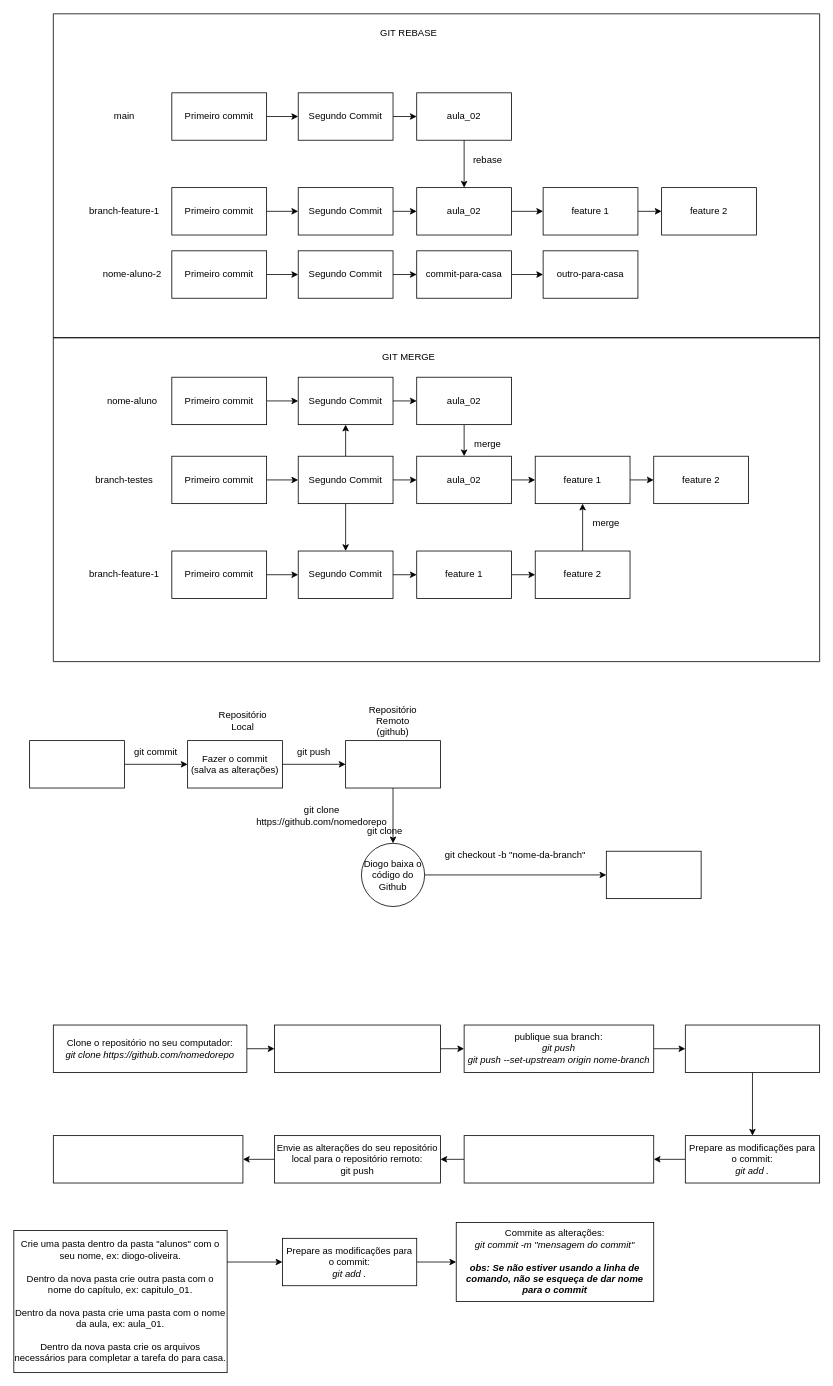
Image size: 833x1386. Some labels were removed from this diagram. The centre of each missing label's shape, as x and y in pixels:
Altera o código: point (76, 764)
Commite as alterações: git commit -m "mensagem do commit": point (558, 1159)
Crie uma branch com o seu nome: git checkout -b "seu-nome": point (357, 1048)
Entre no github e verifique se a sua branch e suas modificações foram publicadas: point (148, 1159)
Enviar para o repositório remoto: point (392, 764)
Faça suas alterações no código: point (752, 1048)
Nova branch e lançar uma nova feature: point (653, 874)
